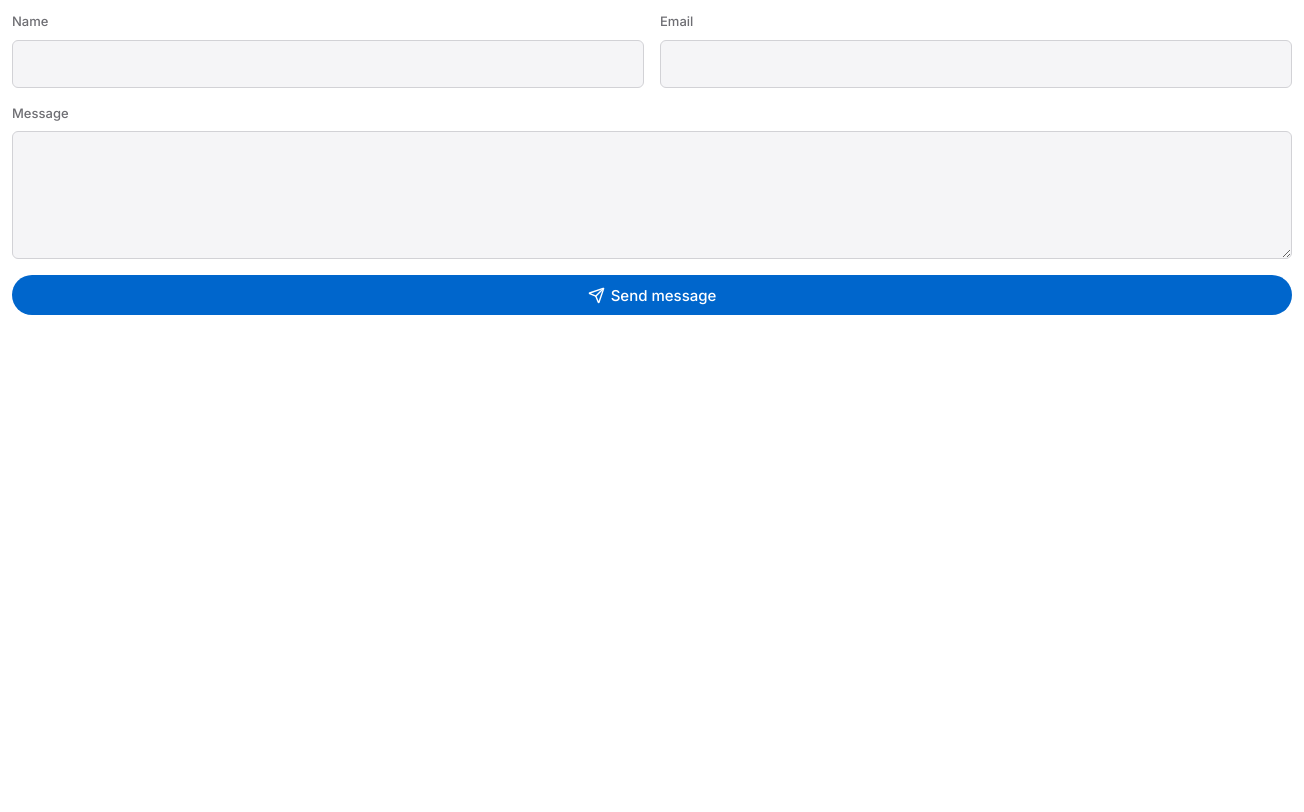
it: ContactForm › submits valid contact details
This screenshot has width=1304, height=812.
Step 1. Type "Jane Doe" into the field labelled "Name" → (328, 64), box [12,40,644,88]
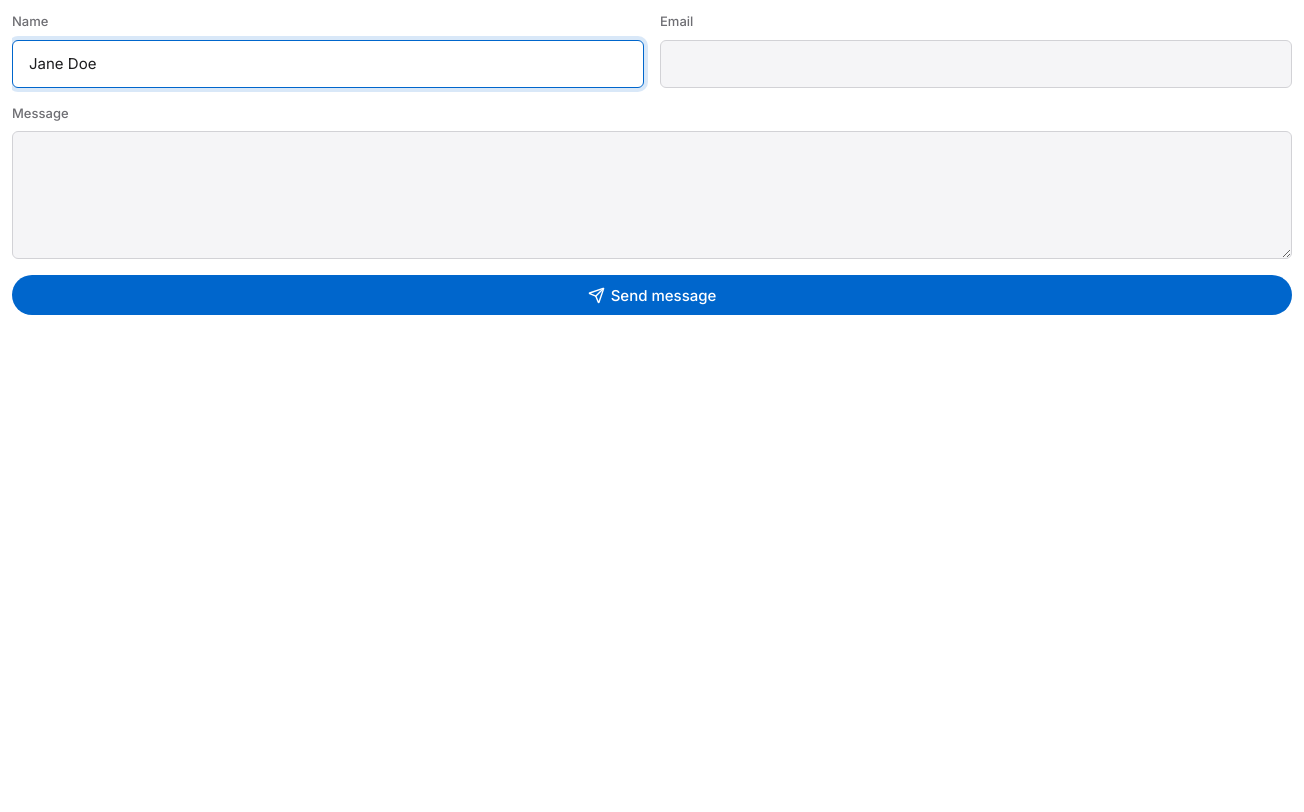
Step 2. Type "jane@example.com" into the field labelled "Email" → (976, 64), box [660,40,1292,88]
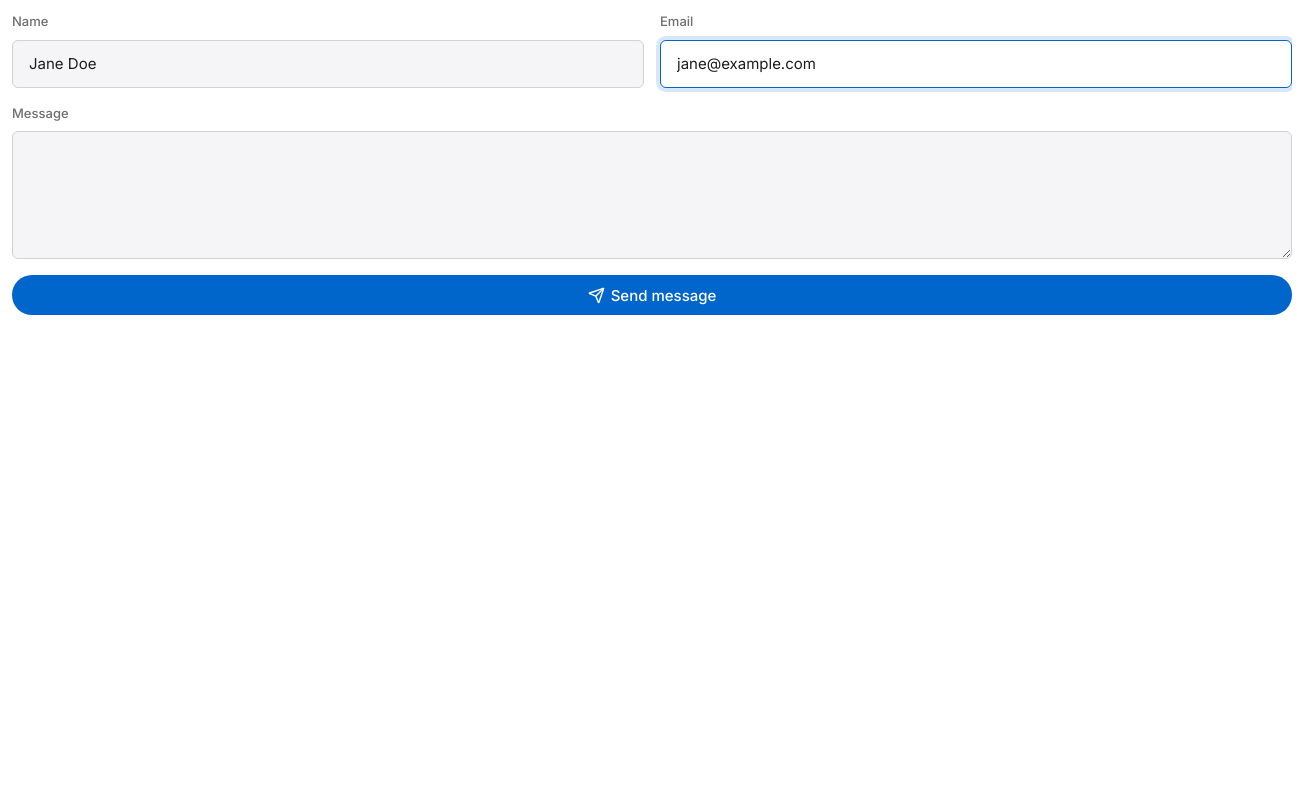
Step 3. Type "This is a project message." into the text box labelled "Message" → (652, 195), box [12,131,1292,259]
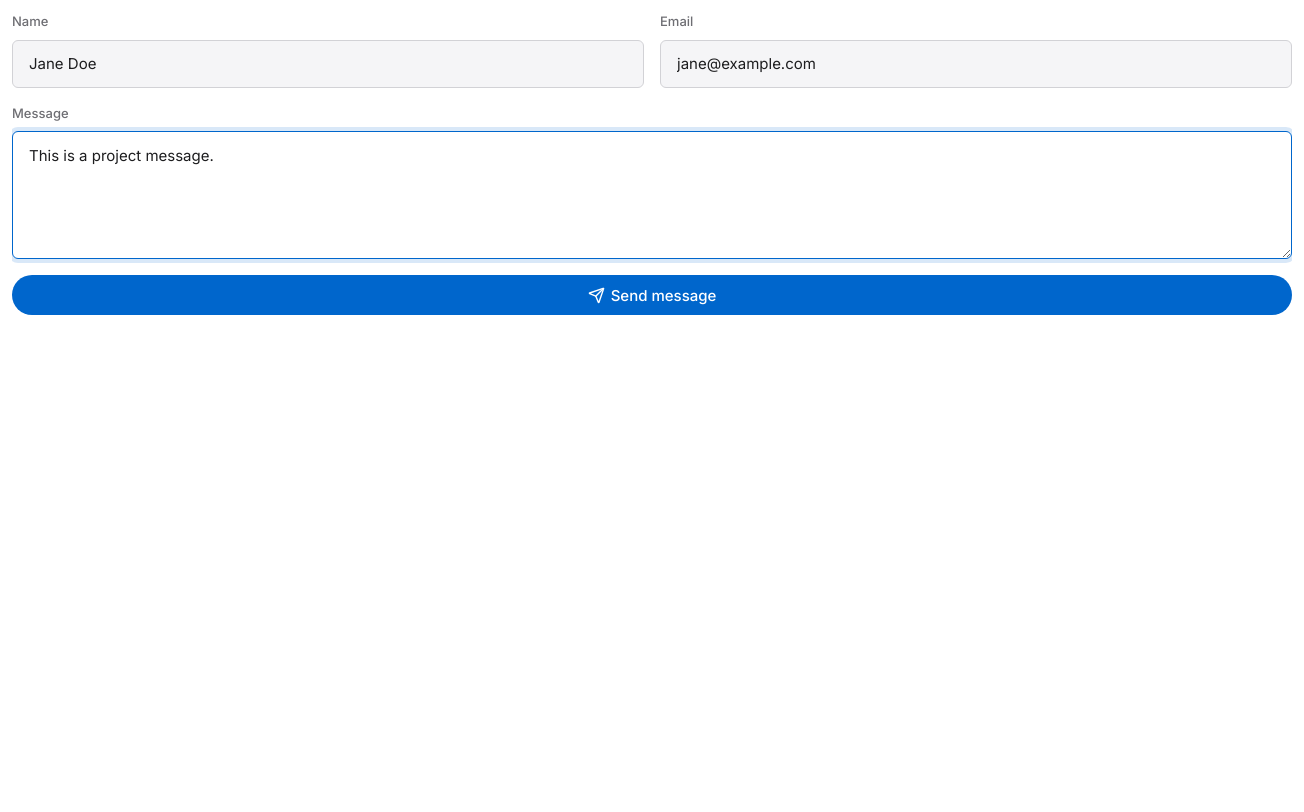
Step 4. Click the button "Send message" → (652, 295), box [12,275,1292,315]
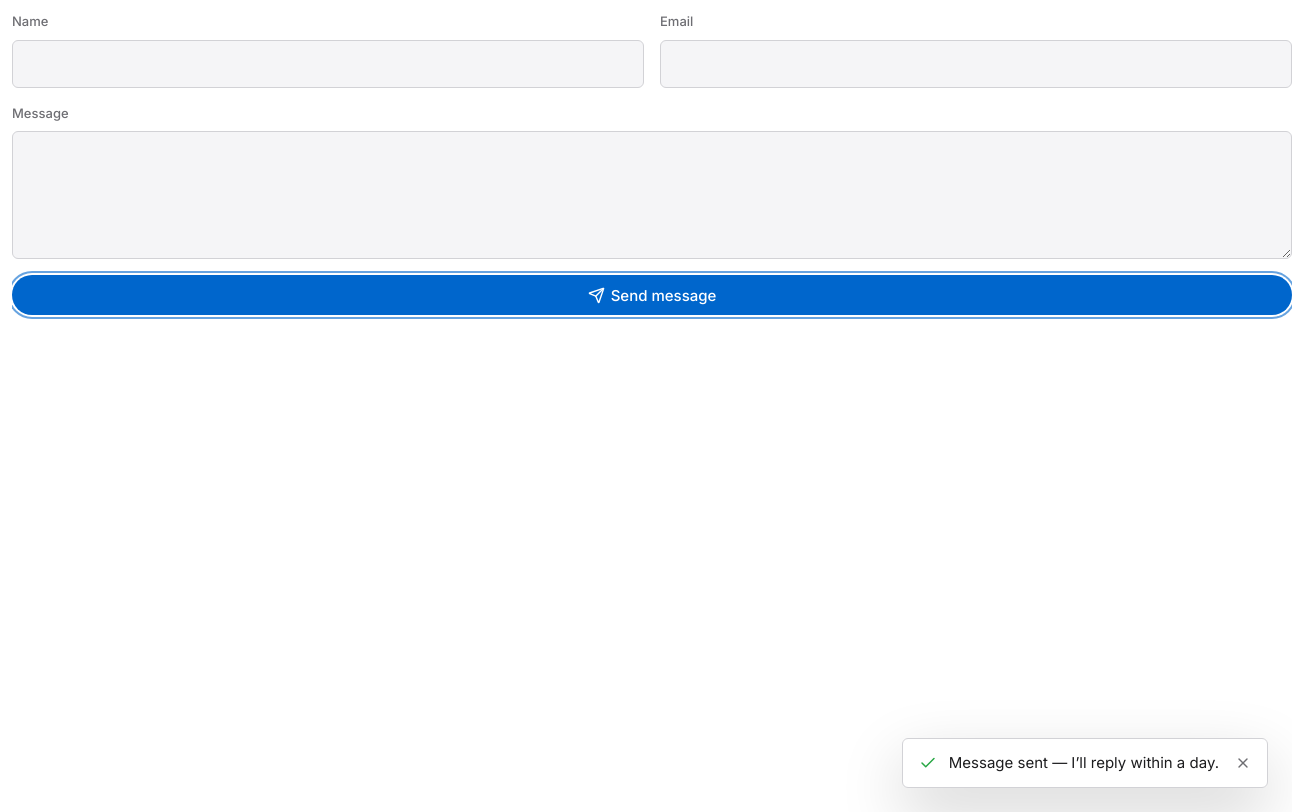
expect the text "Message sent — I’ll reply within a day." is shown: met, box [949,751,1219,775]
